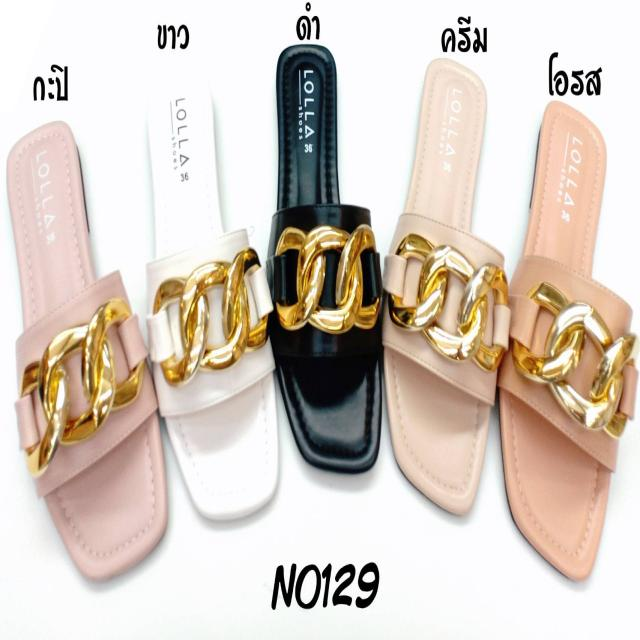black: (271, 38, 383, 466)
cream: (382, 55, 498, 514)
kapi: (4, 122, 166, 570)
orot: (503, 98, 633, 582)
white: (142, 75, 282, 519)
